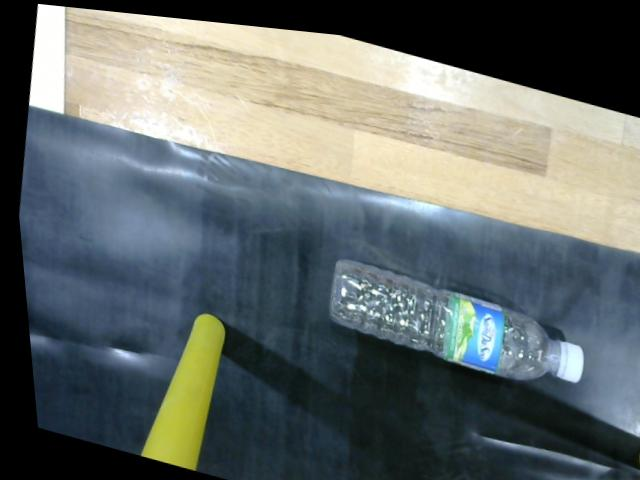bottle: (319, 249, 582, 378)
